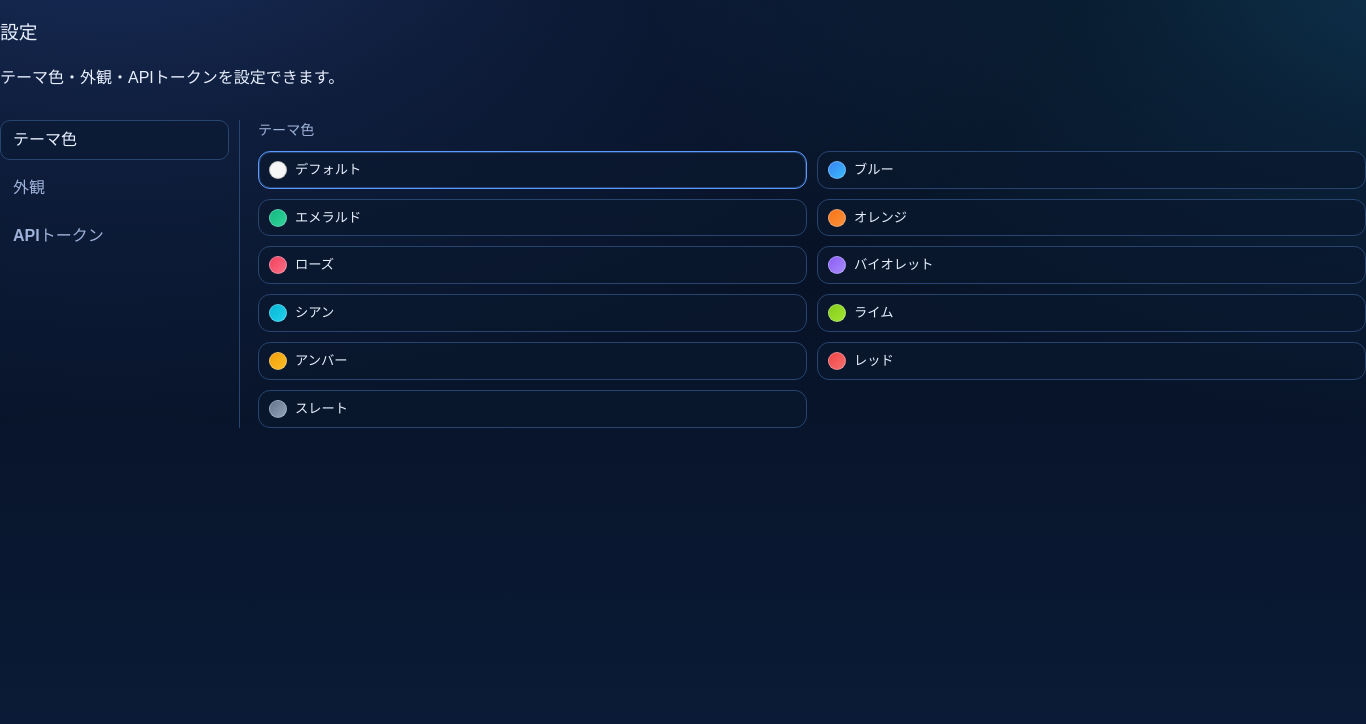
Test: SettingsPanel › shows success message when bearer token is saved
Click the tab "APIトークン": point(114, 236) 0,216 -> 229,257
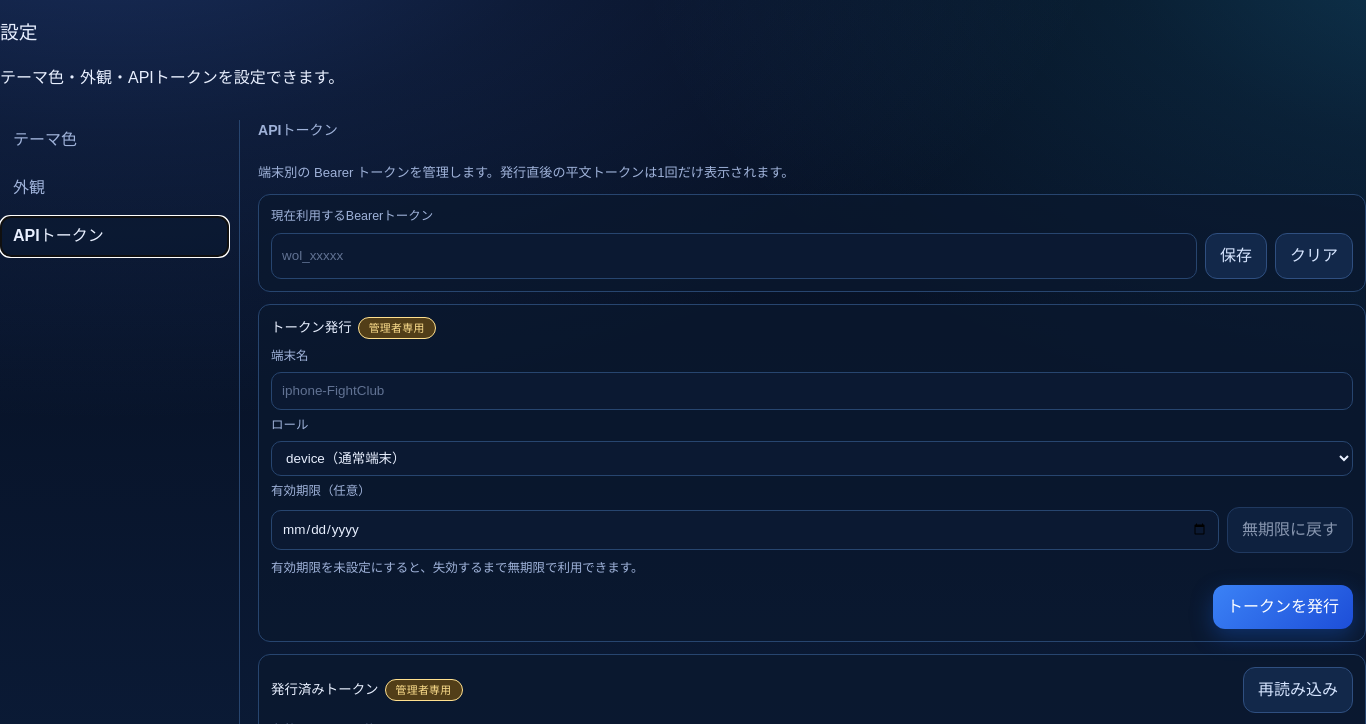
In the password field labelled "現在利用するBearerトークン": point(734, 256) 271,233 -> 1197,279, type "wol_saved_token"
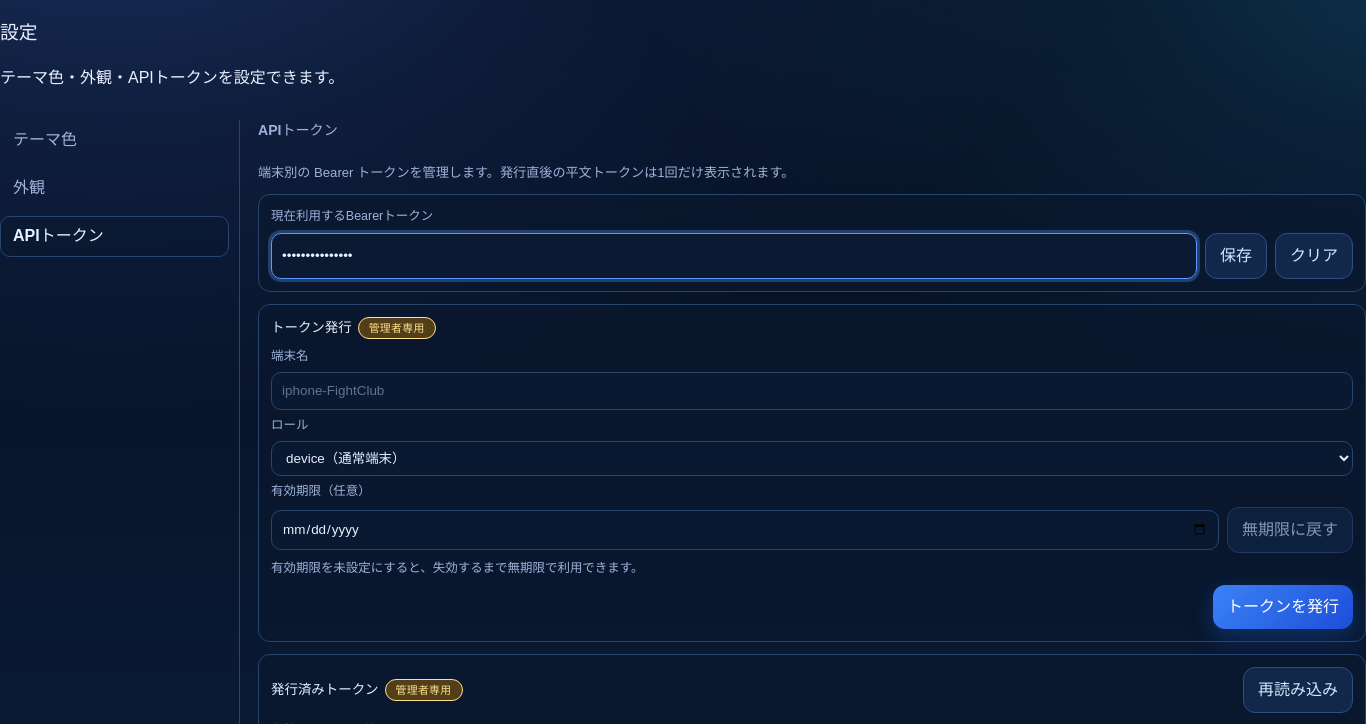
Click the button "保存": point(1236, 256) 1205,233 -> 1267,279
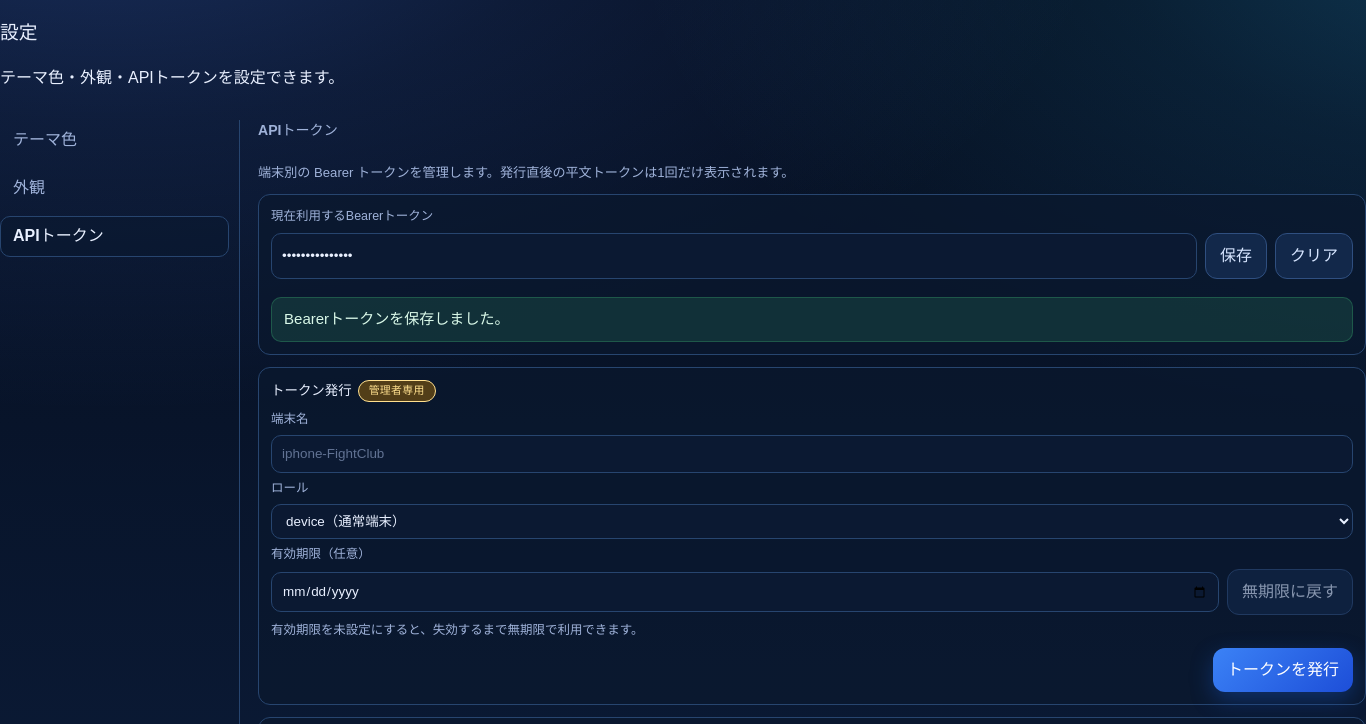
Now the text "Bearerトークンを保存しました。" is shown, box 271,297 -> 1353,342
